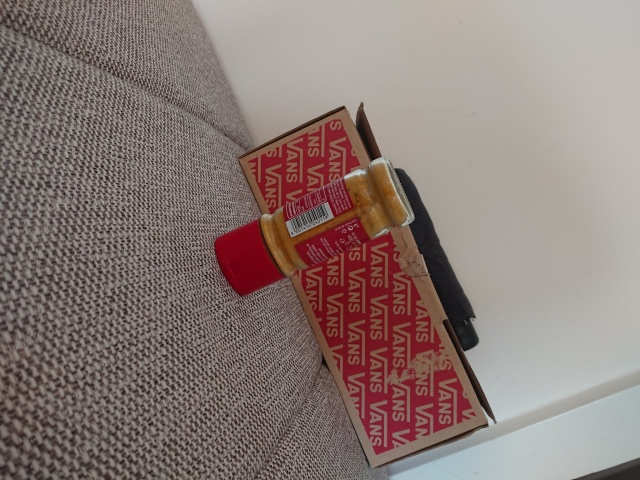Kotanyi Curry Spices Mix 70g: (212, 153, 417, 300)
